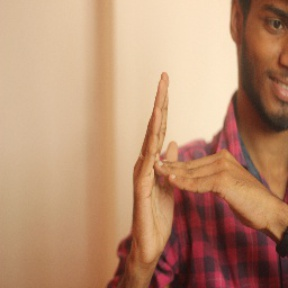Z: (123, 70, 267, 258)
